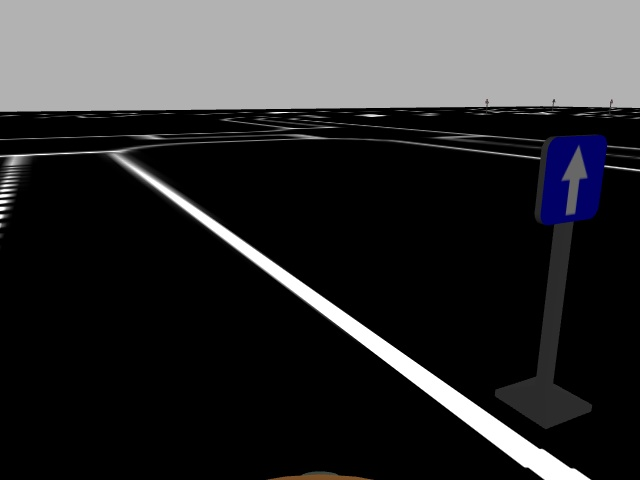oneway: (539, 132, 608, 225)
